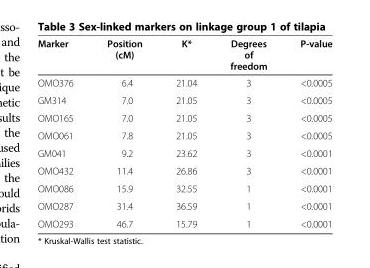table: (36, 37, 331, 229)
table column: (212, 37, 282, 229), (89, 37, 158, 229), (158, 37, 212, 229), (36, 37, 89, 229), (282, 37, 331, 229)
table column header: (36, 37, 331, 74)
table row: (36, 37, 331, 74), (36, 108, 331, 126), (36, 126, 331, 144), (36, 161, 331, 179), (36, 196, 331, 214), (36, 74, 331, 91), (36, 91, 331, 108), (36, 144, 331, 161), (36, 179, 331, 196), (36, 214, 331, 229)
